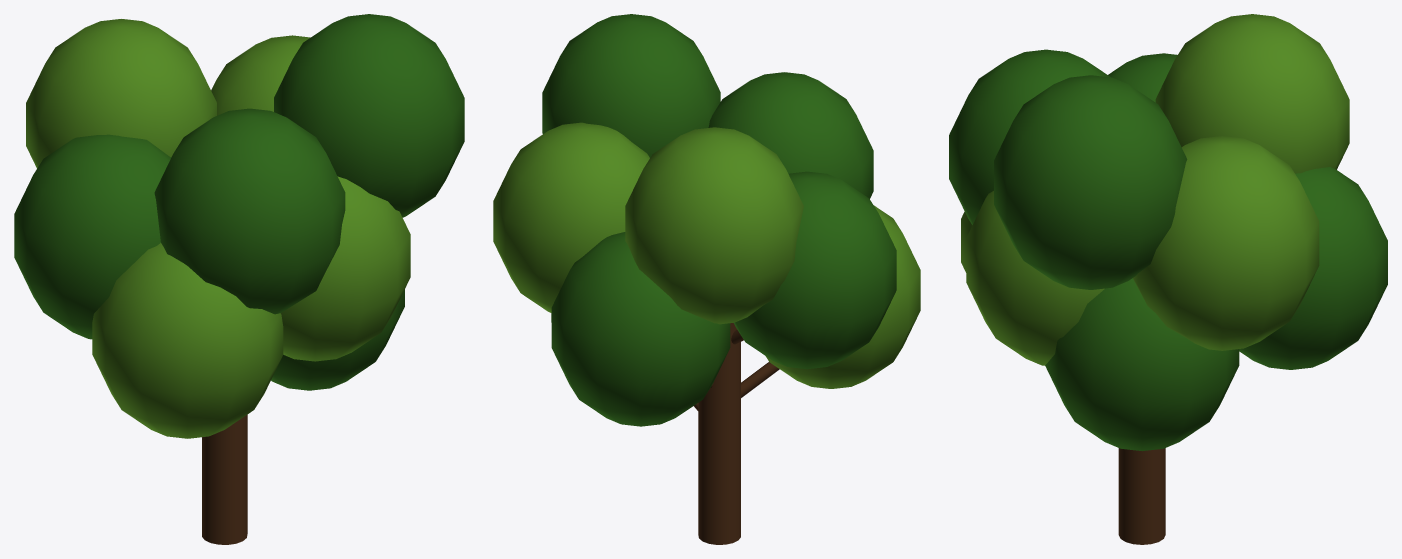
Rendered from Gyumolcsfa.obj.
The picture shows the model from 3 angles, left to right: view 1: azimuth 30°, elevation 25°; view 2: azimuth 150°, elevation 25°; view 3: azimuth 270°, elevation 25°; orthographic projection. The views are drawn at different scales.
Bounding box in the file's own units: 2.34 × 2.89 × 2.25.
